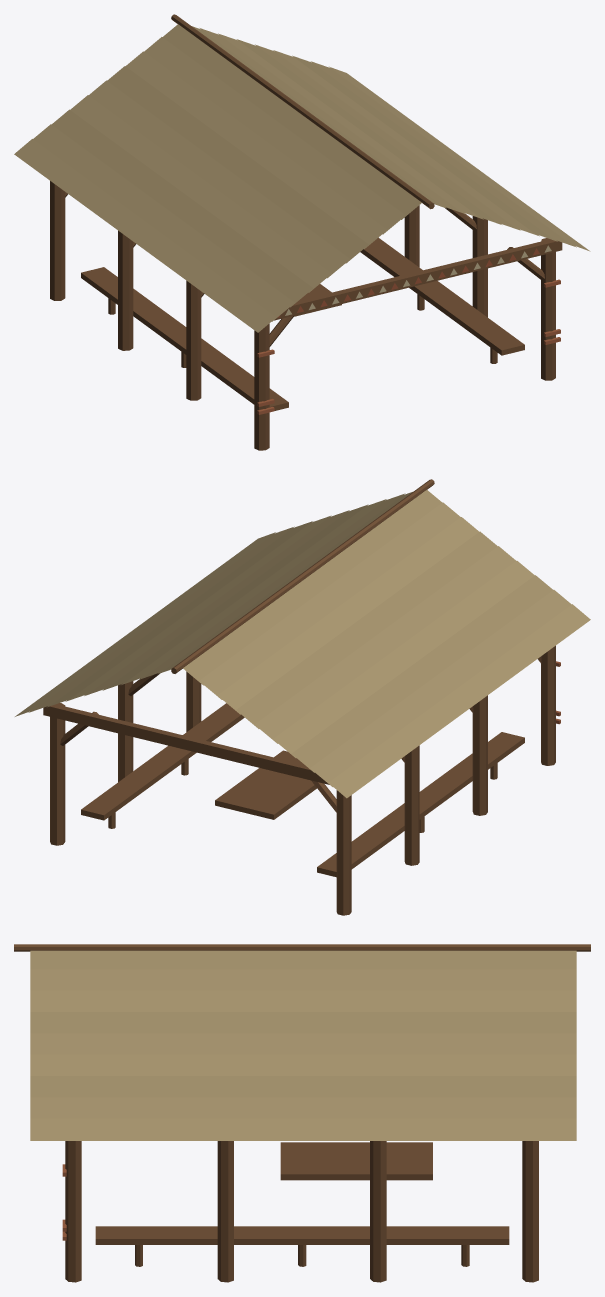
The model's file is open_common_hall.glb.
3 renders of one model, top to bottom at view 1: azimuth 30°, elevation 25°; view 2: azimuth 150°, elevation 25°; view 3: azimuth 270°, elevation 25°, orthographic. The views are drawn at different scales.
Visible parts, largest first — view 1: open_common_hall; view 2: open_common_hall; view 3: open_common_hall.
Part boxes in pixels (x1,y1,x2,y2): open_common_hall: (14, 14, 590, 450); open_common_hall: (15, 479, 590, 915); open_common_hall: (14, 944, 590, 1282).
Bounding box in the file's own units: 7.9 × 5.2 × 10.6.
